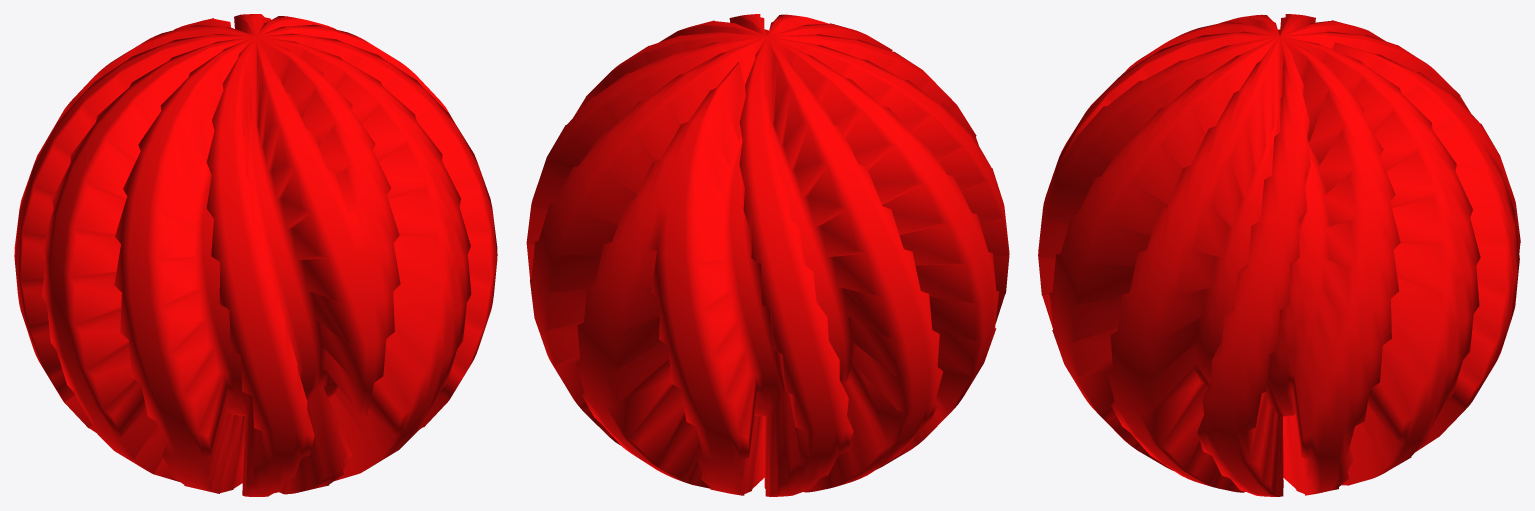
Rendered from Orbital.glb.
3 renders of one model, left to right at view 1: azimuth 30°, elevation 25°; view 2: azimuth 150°, elevation 25°; view 3: azimuth 270°, elevation 25°, orthographic.
Visible parts, largest first — view 1: Sphere; view 2: Sphere; view 3: Sphere.
Part boxes in pixels (x1,y1,x2,y2): Sphere: [14, 14, 497, 496]; Sphere: [526, 14, 1009, 496]; Sphere: [1038, 14, 1520, 496].
Size of the model in its own units: 3 by 3 by 3.
